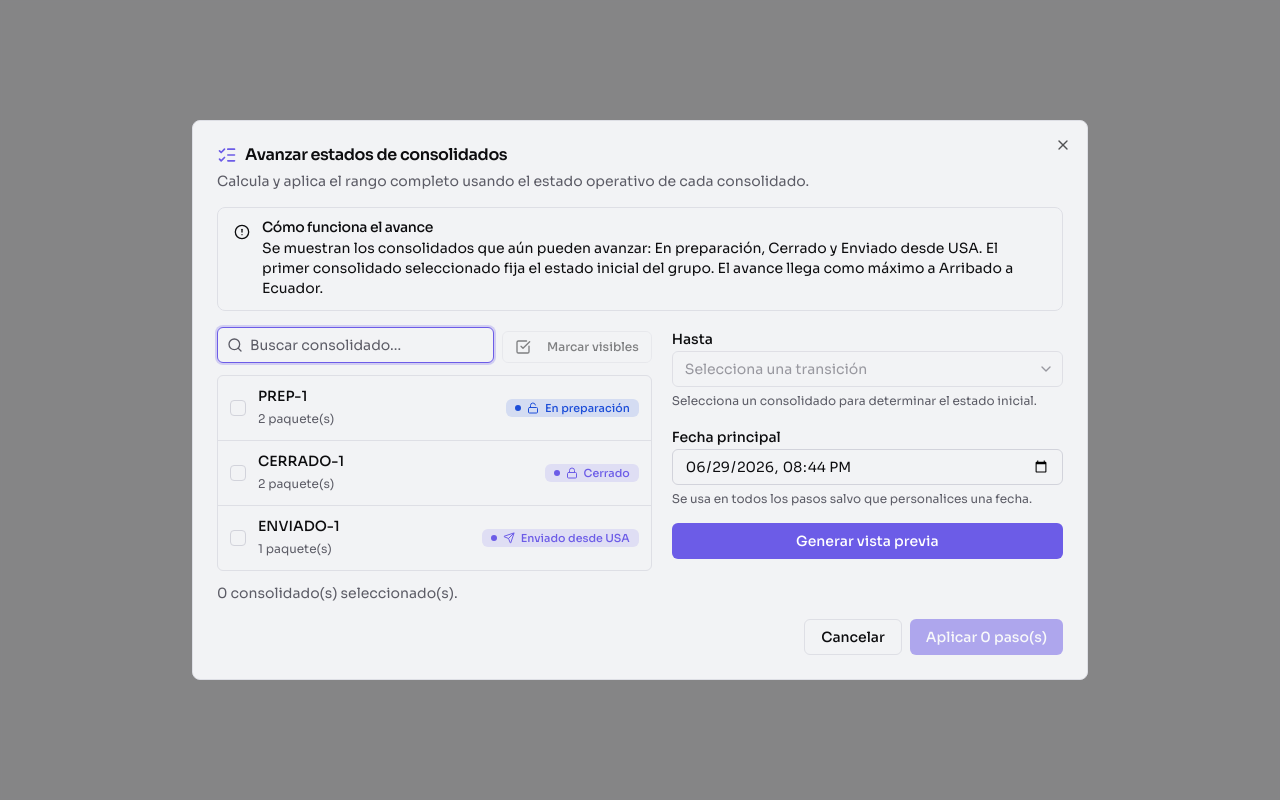
Test: AvanceEstadosConsolidadosDialog › el primer consolidado bloquea los que tienen otro estado inicial
Click the text "PREP-1": (283, 396) top-left (258, 387), bottom-right (307, 405)
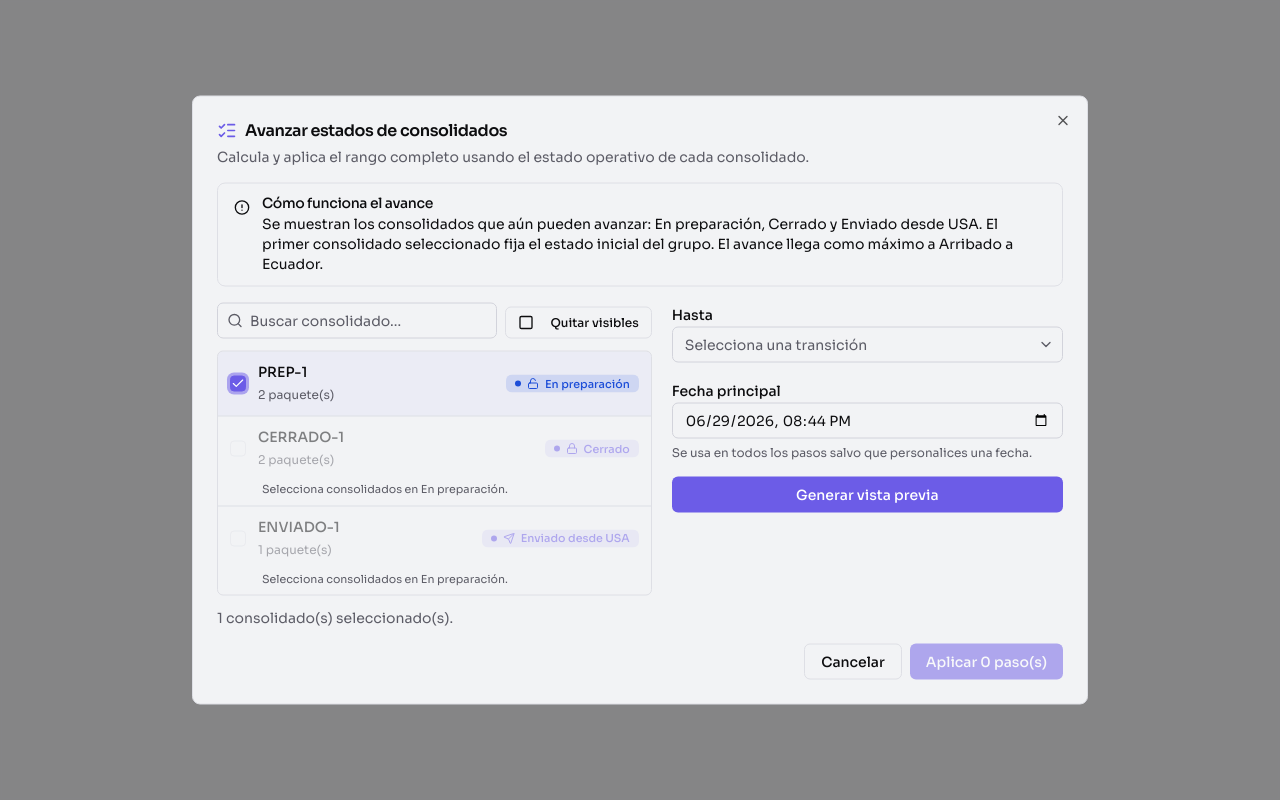
Check: the text "Selecciona consolidados en En preparación." is shown 2 times, box top-left (262, 482), bottom-right (508, 496); top-left (262, 571), bottom-right (508, 585)
